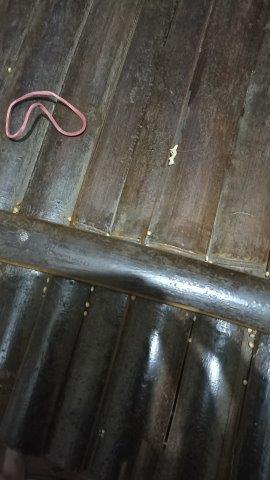karet: (5, 90, 87, 139)
